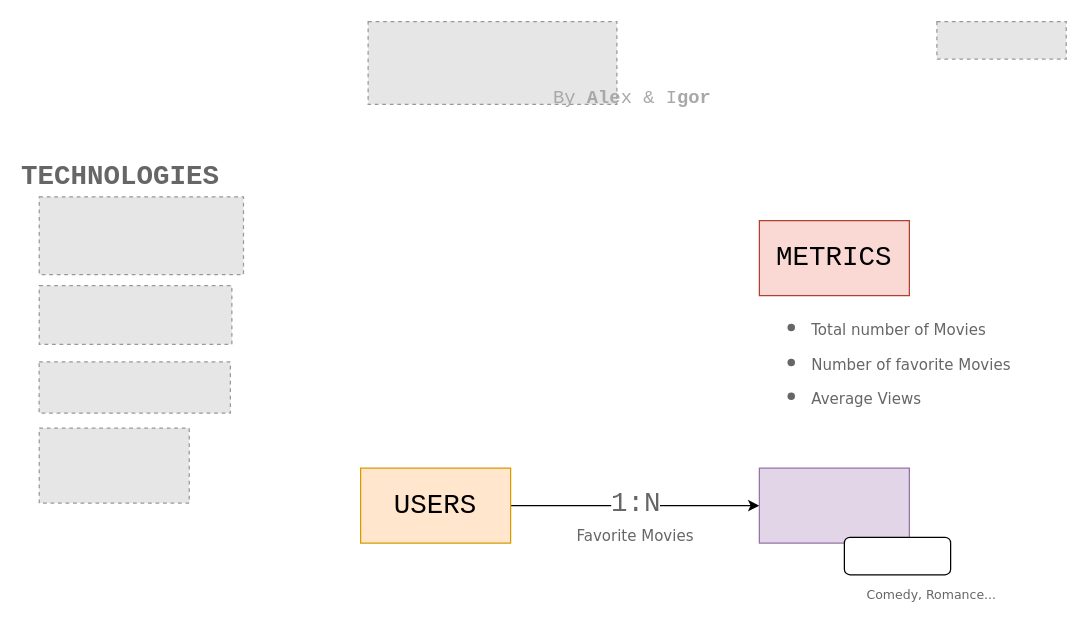
Image size: 1088x635. Some labels were removed from this diagram. Grey dashed boxes stand in for pictures. The centre of each missing label's shape, as x and y in pixels:
"CategoryEnum" belongs at pixel 897 555.
"MOVIES" belongs at pixel 833 505.
